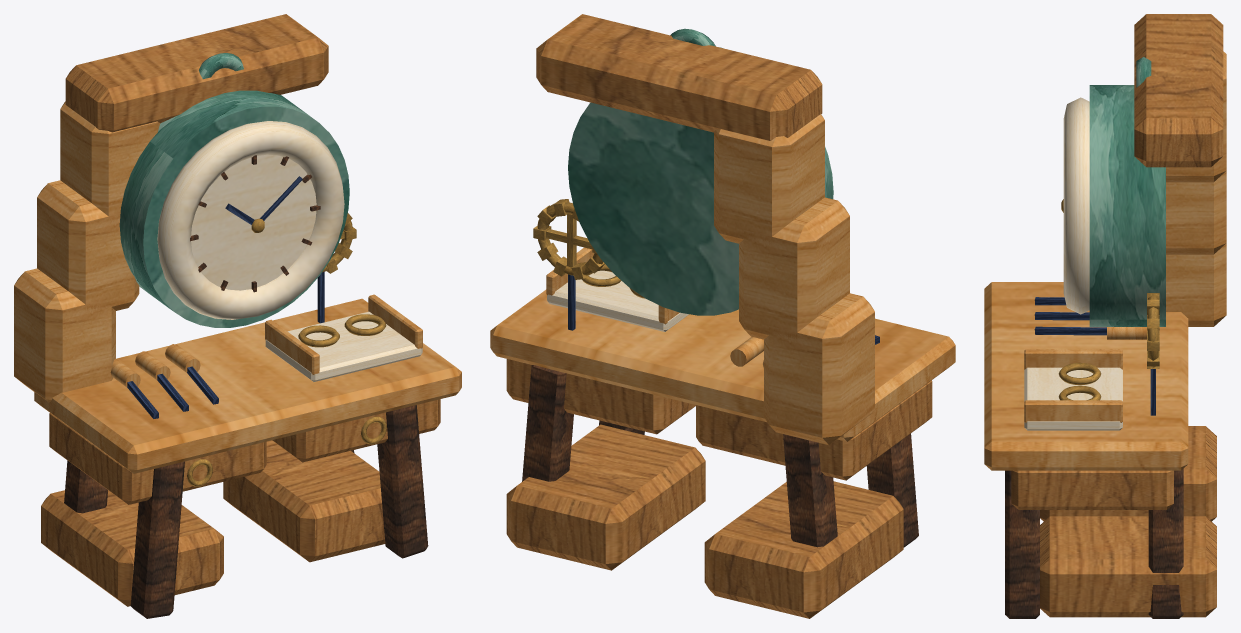
File: revised-09-04.glb
3 views of the same model, side by side, from view 1: azimuth 30°, elevation 25°; view 2: azimuth 150°, elevation 25°; view 3: azimuth 270°, elevation 25° (orthographic). The views are drawn at different scales.
Visible parts, largest first — view 1: clock_station; view 2: clock_station; view 3: clock_station.
Part boxes in pixels (box(x1,y1,x2,y2)): clock_station: box(14, 14, 461, 618); clock_station: box(490, 14, 955, 618); clock_station: box(984, 14, 1226, 618).
Bounding box in the file's own units: 1.25 × 1.71 × 0.76.
2 materials, 2 textured.
